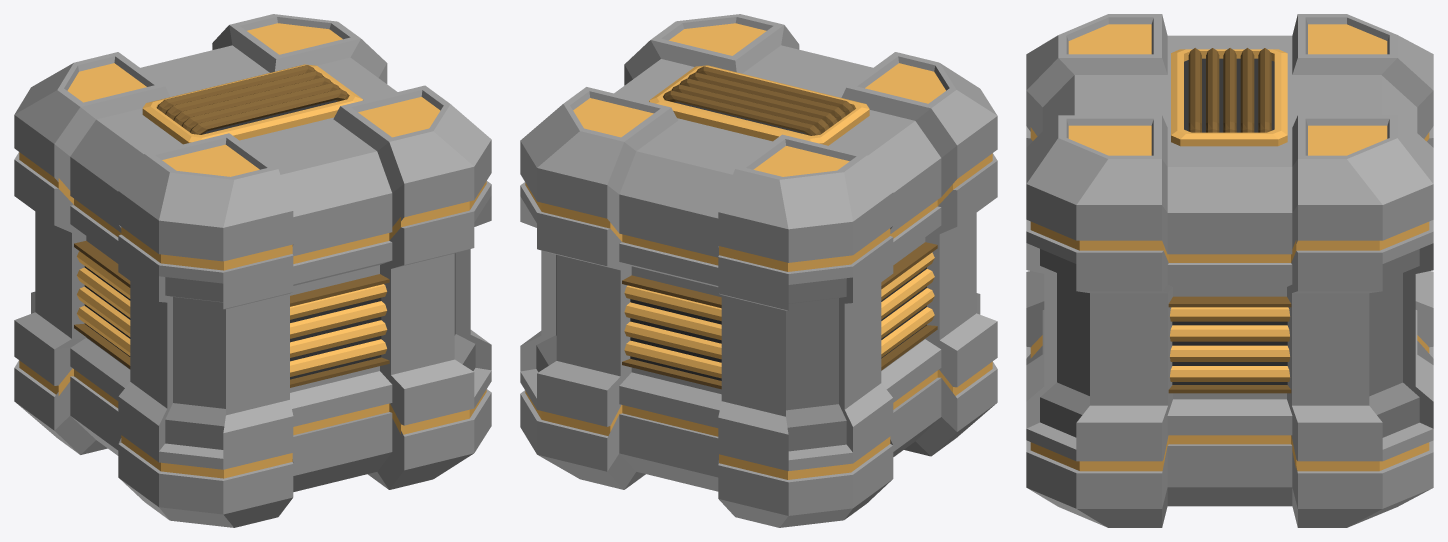
Rendered from props_crate.obj.
3 views of the same model, side by side, from view 1: azimuth 30°, elevation 25°; view 2: azimuth 150°, elevation 25°; view 3: azimuth 270°, elevation 25° (orthographic). The views are drawn at different scales.
Parts seen in each view (by area): view 1: props_crate; view 2: props_crate; view 3: props_crate.
Boxes of the visible parts, bbox=[...] form: props_crate: bbox=[14, 14, 491, 527]; props_crate: bbox=[520, 14, 997, 527]; props_crate: bbox=[1026, 14, 1433, 527].
Size of the model in its own units: 0.7971 by 0.8055 by 0.7971.
